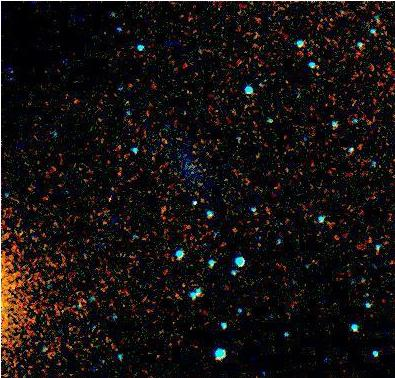star: (218, 213, 248, 243)
